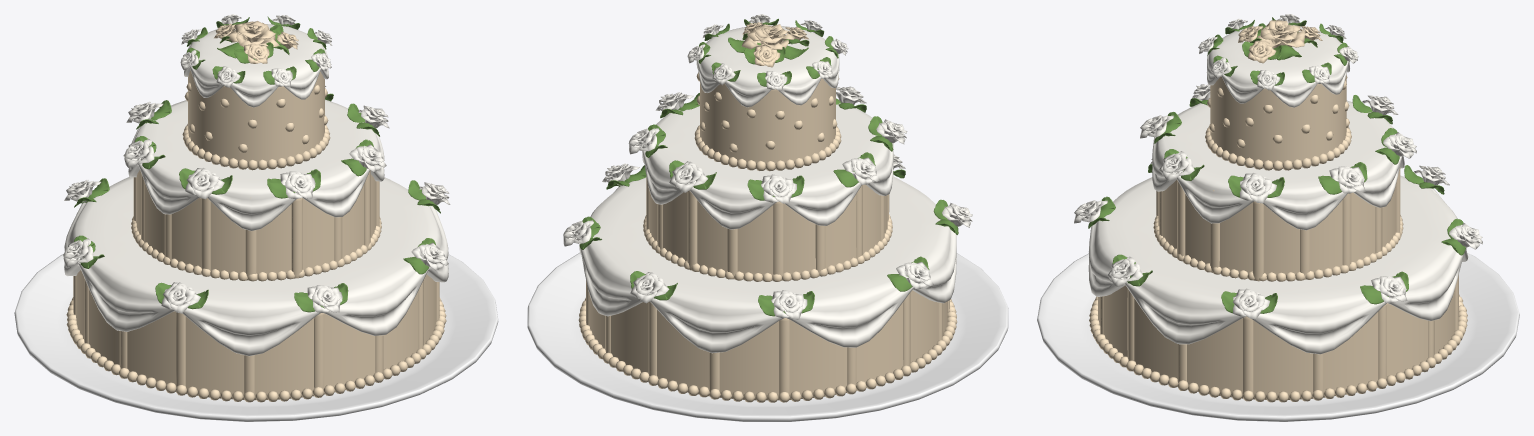
File: cake final.glb
3 renders of one model, left to right at view 1: azimuth 30°, elevation 25°; view 2: azimuth 150°, elevation 25°; view 3: azimuth 270°, elevation 25°, orthographic.
Parts seen in each view (by area): view 1: 13500_Wedding_Cake_v1_L1; view 2: 13500_Wedding_Cake_v1_L1; view 3: 13500_Wedding_Cake_v1_L1.
Boxes of the visible parts, x1,y1,x2,y2 form: 13500_Wedding_Cake_v1_L1: (14, 14, 498, 421); 13500_Wedding_Cake_v1_L1: (527, 14, 1008, 421); 13500_Wedding_Cake_v1_L1: (1037, 14, 1519, 421).
Bounding box in the file's own units: 44.37 × 31.2 × 44.37.
